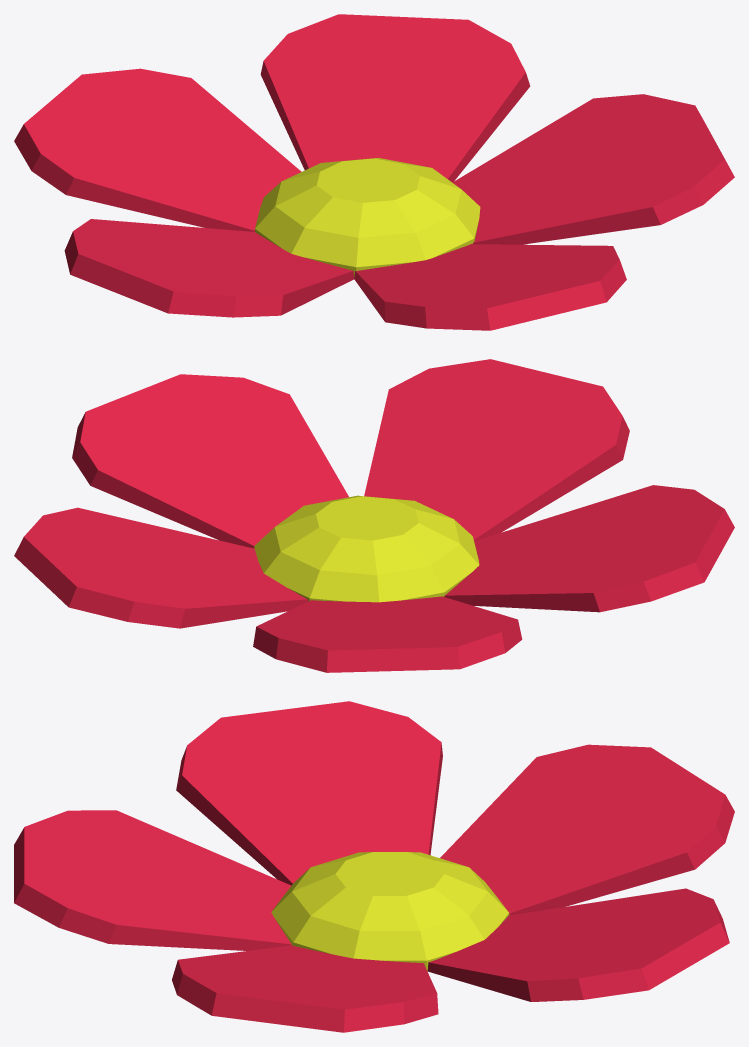
Rendered from Flower.fbx.
The picture shows the model from 3 angles, top to bottom: view 1: azimuth 30°, elevation 25°; view 2: azimuth 150°, elevation 25°; view 3: azimuth 270°, elevation 25°; orthographic projection. The views are drawn at different scales.
Parts seen in each view (by area): view 1: middlie; view 2: middlie; view 3: middlie.
Part boxes in pixels (x1,y1,x2,y2): middlie: (14,14,734,330); middlie: (14,359,734,672); middlie: (14,701,734,1032).
Bounding box in the file's own units: 36.56 × 3.72 × 35.11.
